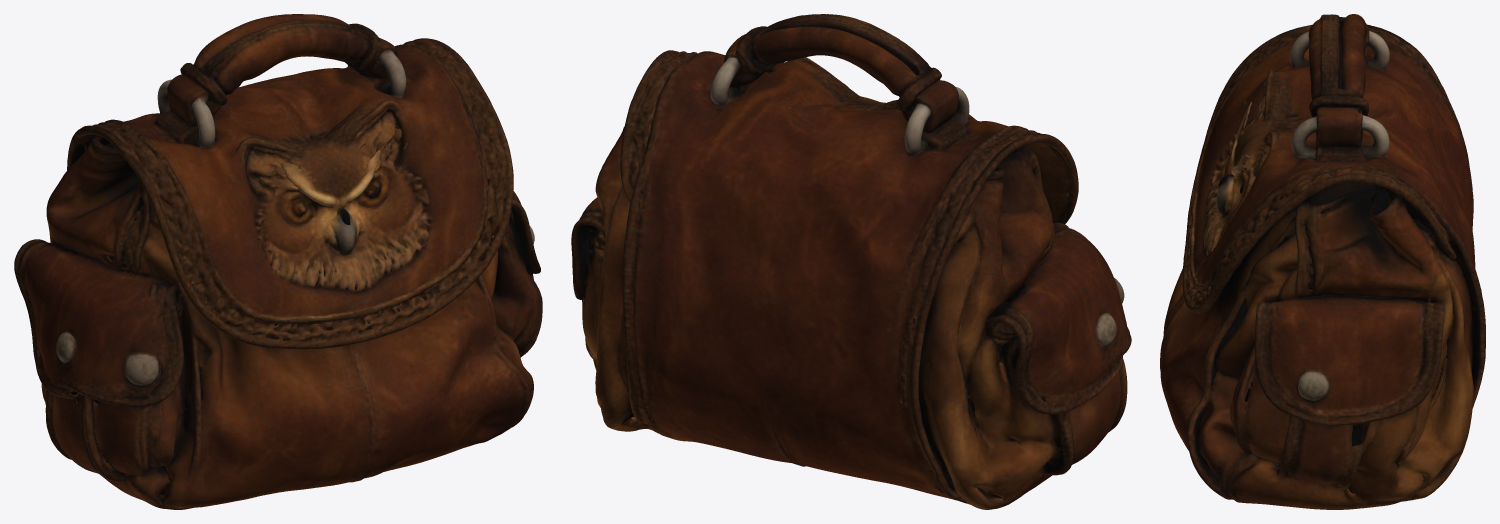
File: generation_satchel_2.glb
3 renders of one model, left to right at view 1: azimuth 30°, elevation 25°; view 2: azimuth 150°, elevation 25°; view 3: azimuth 270°, elevation 25°, orthographic. The views are drawn at different scales.
Visible parts, largest first — view 1: geometry_0; view 2: geometry_0; view 3: geometry_0.
Part boxes in pixels (x1,y1,x2,y2): geometry_0: [14, 14, 542, 509]; geometry_0: [571, 14, 1131, 509]; geometry_0: [1160, 14, 1485, 509].
Size of the model in its own units: 1 by 0.8521 by 0.6145.
Materials: 1 (1 with a texture image).
